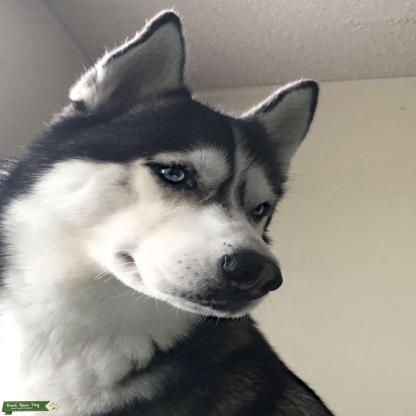dog: (0, 11, 321, 416)
